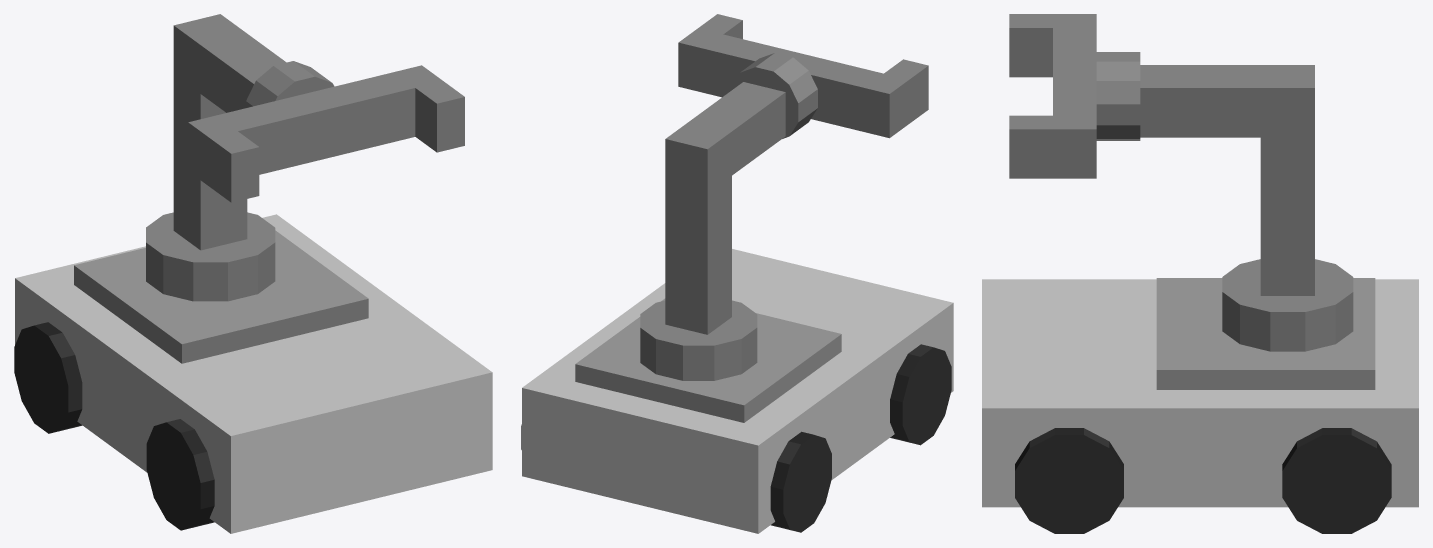
Rendered from robot.gltf.
3 views of the same model, side by side, from view 1: azimuth 30°, elevation 25°; view 2: azimuth 150°, elevation 25°; view 3: azimuth 270°, elevation 25° (orthographic). The views are drawn at different scales.
Parts seen in each view (by area): view 1: base, robot (×3), gripper (×3), wheel (×2), joint (×2); view 2: base, robot (×3), gripper (×3), joint (×2), wheel (×2); view 3: base, robot (×3), wheel (×2), joint (×2), gripper (×3).
Boxes of the visible parts, x1,y1,x2,y2 form: base: (15,214,492,533); robot (×3): (74,14,368,363); gripper (×3): (188,65,464,202); wheel (×2): (14,322,214,530); joint (×2): (146,61,334,301); base: (522,249,953,533); robot (×3): (575,82,841,422); gripper (×3): (678,14,928,138); joint (×2): (640,53,817,380); wheel (×2): (770,344,951,532); base: (982,279,1418,507); robot (×3): (1140,65,1375,389); wheel (×2): (1015,428,1391,533); joint (×2): (1096,52,1353,351); gripper (×3): (1009,14,1096,178).
Size of the model in its own units: 0.9688 by 1.28 by 1.25.
Materials: 1 (1 with a texture image).
